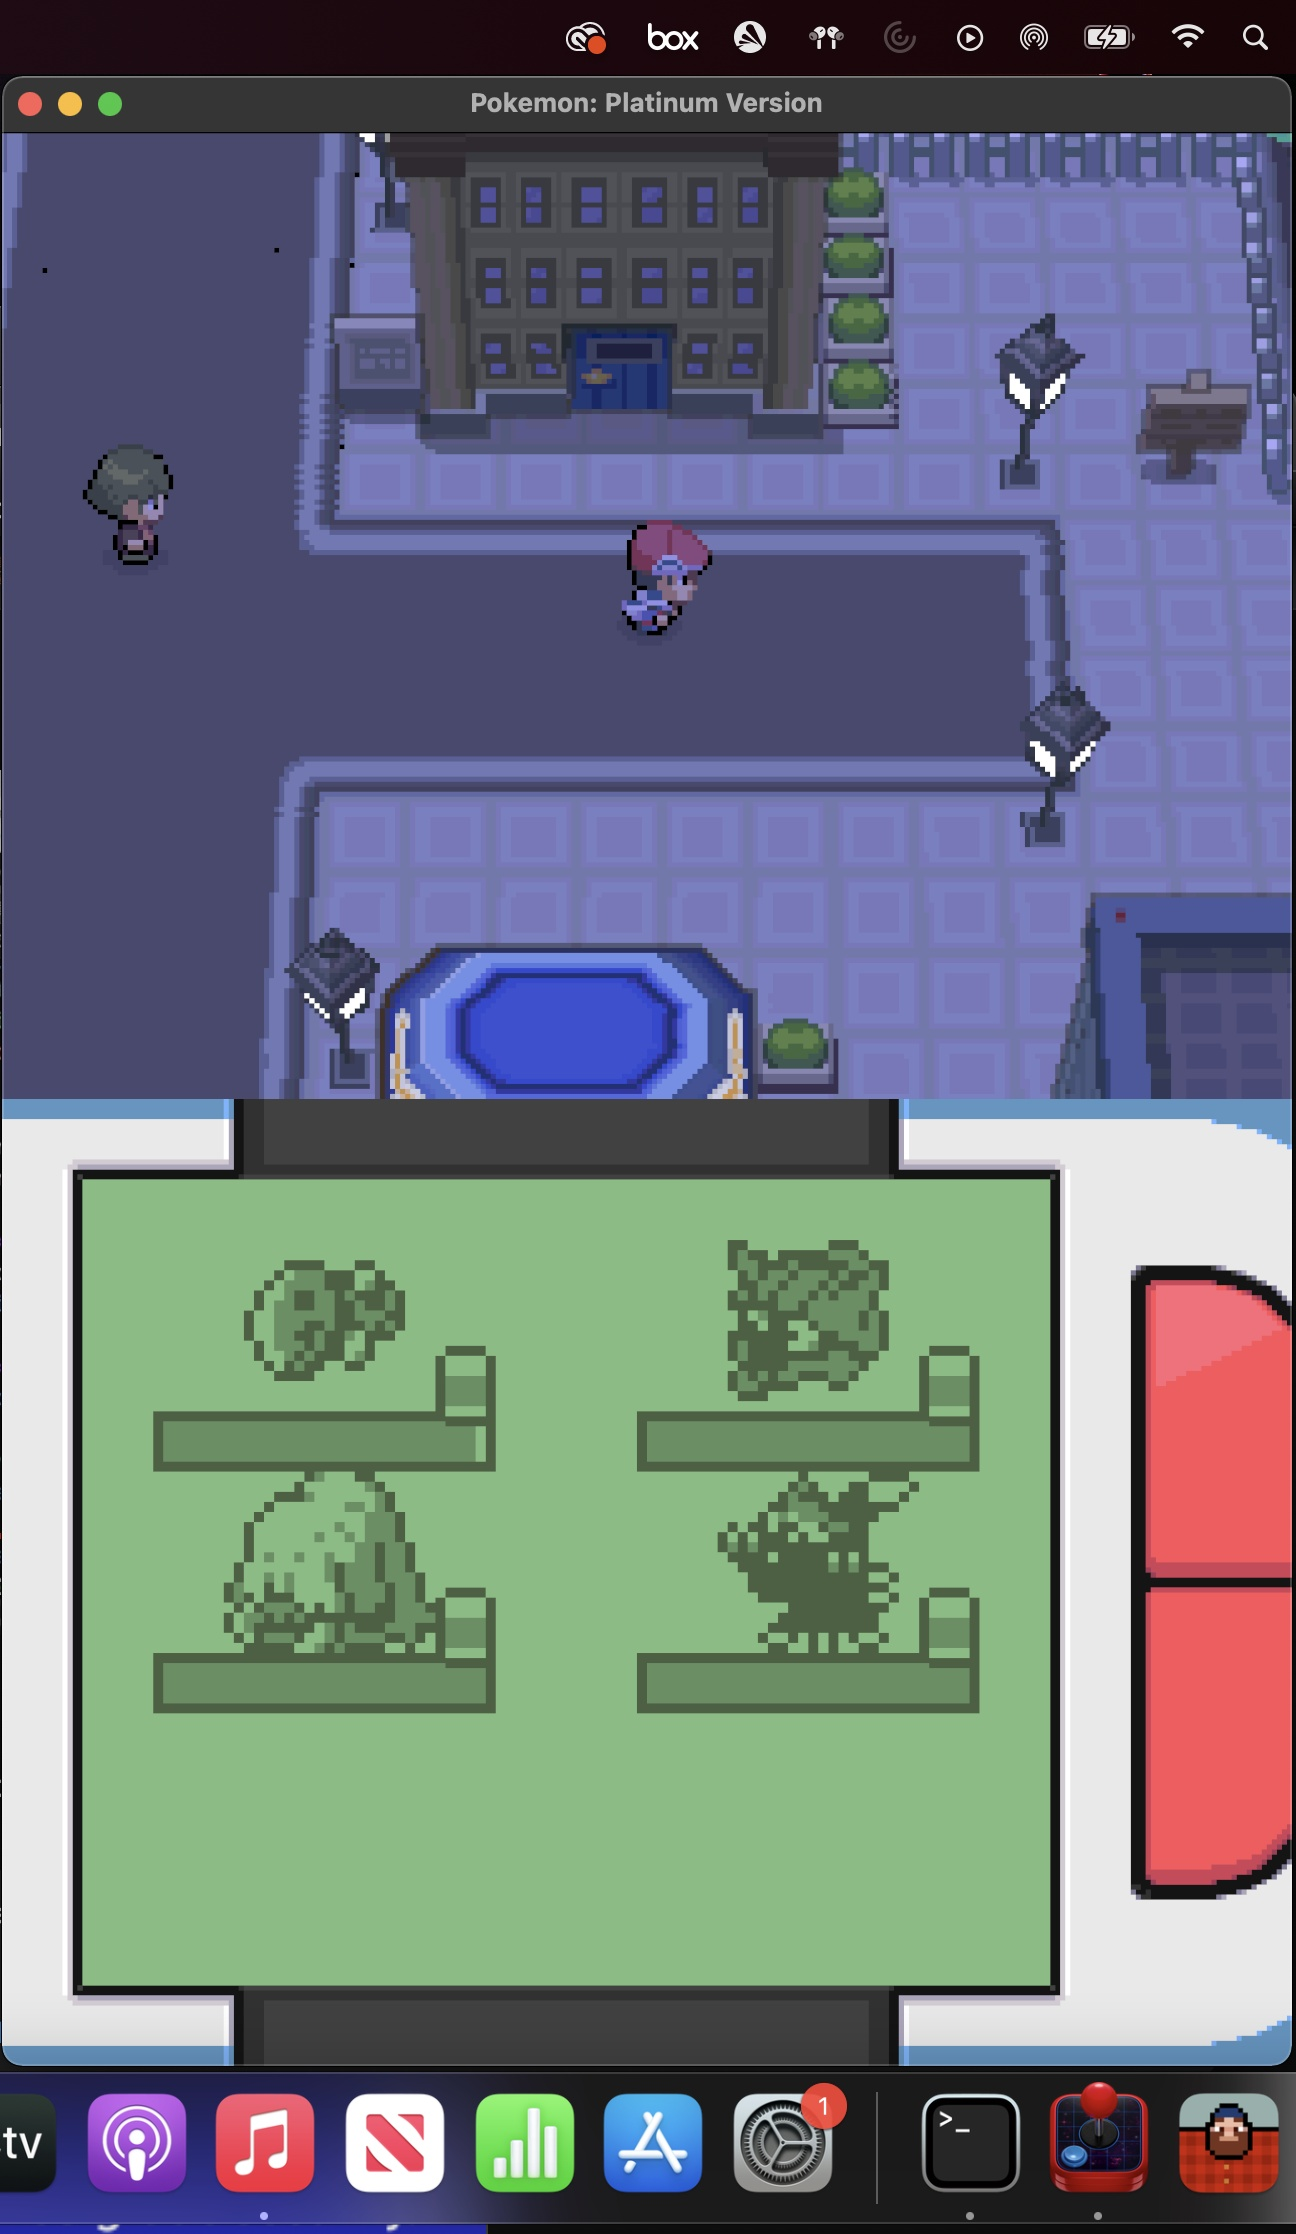player: (611, 517, 711, 641)
turn left: (977, 306, 1256, 501)
